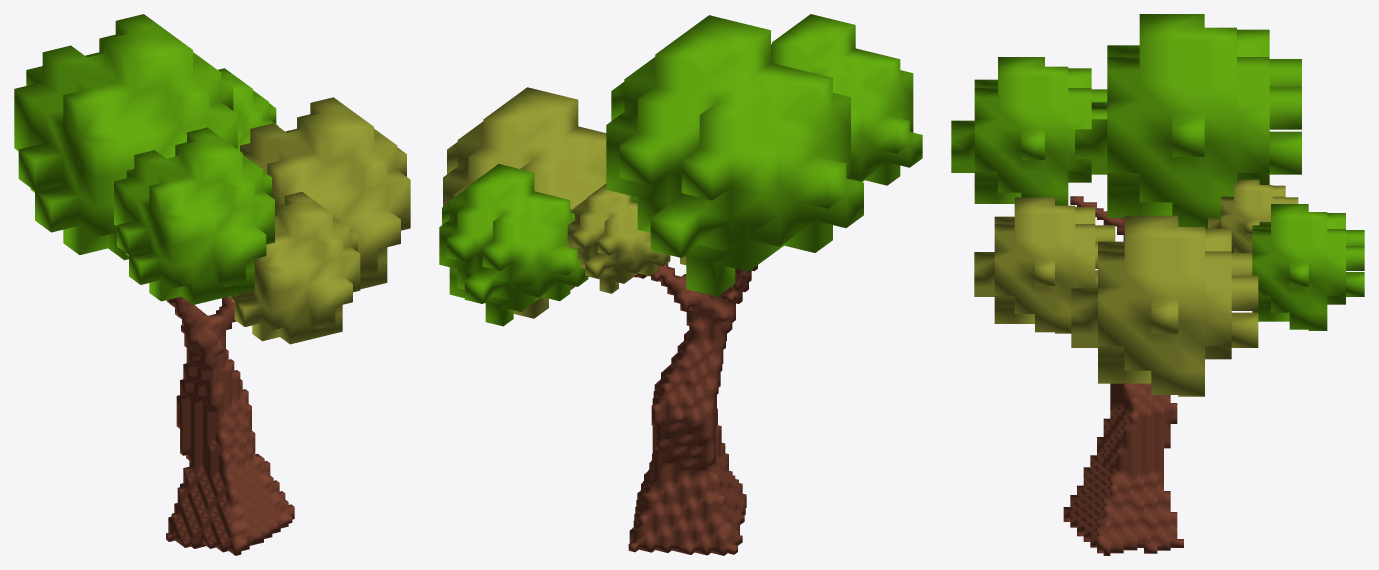
File: Tree_Cube_05.fbx
The picture shows the model from 3 angles, left to right: view 1: azimuth 30°, elevation 25°; view 2: azimuth 150°, elevation 25°; view 3: azimuth 270°, elevation 25°; orthographic projection. The views are drawn at different scales.
Visible parts, largest first — view 1: Sphere.026, Sphere.027, Cube.004, Sphere.028, Sphere.029, Sphere.024; view 2: Sphere.026, Cube.004, Sphere.024, Sphere.028, Sphere.027, Sphere.025; view 3: Sphere.026, Sphere.028, Sphere.027, Cube.004, Sphere.029, Sphere.024, Sphere.025.
Part boxes in pixels (x1,y1,x2,y2): Sphere.026: [14, 14, 237, 260]; Sphere.027: [114, 127, 274, 304]; Cube.004: [166, 296, 294, 555]; Sphere.028: [240, 97, 410, 289]; Sphere.029: [228, 191, 360, 344]; Sphere.024: [218, 68, 278, 150]; Sphere.026: [606, 15, 863, 296]; Cube.004: [628, 263, 757, 555]; Sphere.024: [439, 164, 588, 326]; Sphere.028: [443, 87, 606, 318]; Sphere.027: [771, 14, 922, 185]; Sphere.025: [567, 184, 670, 293]; Sphere.026: [1075, 14, 1301, 228]; Sphere.028: [1071, 215, 1258, 396]; Sphere.027: [951, 57, 1107, 205]; Cube.004: [1063, 196, 1183, 555]; Sphere.029: [974, 197, 1115, 333]; Sphere.024: [1252, 204, 1364, 330]; Sphere.025: [1208, 179, 1298, 252].
Bounding box in the file's own units: 254 × 326 × 254.
